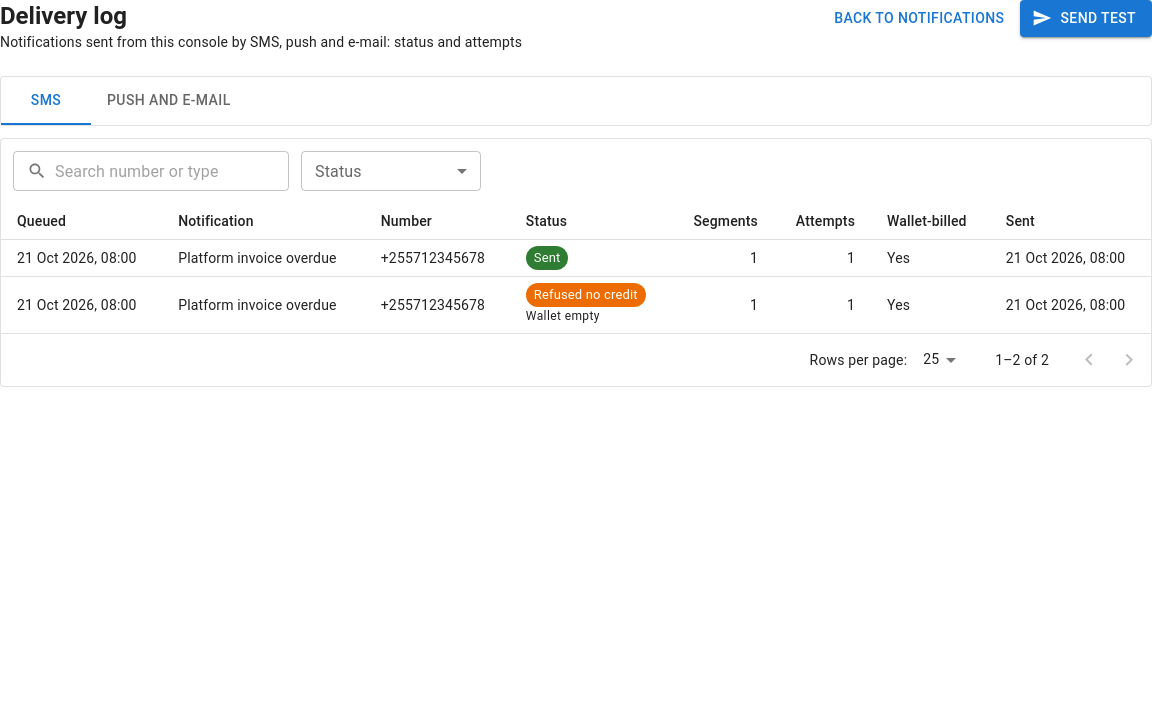
Scenario: SmsDeliveriesPage › lists deliveries with a server status filter and sends a platform test
Expected: the text "Wallet empty" is shown, left=526, top=309, right=600, bottom=323
Step 1. Click the dropdown named "Status" → x=391, y=171, box left=301, top=151, right=481, bottom=191
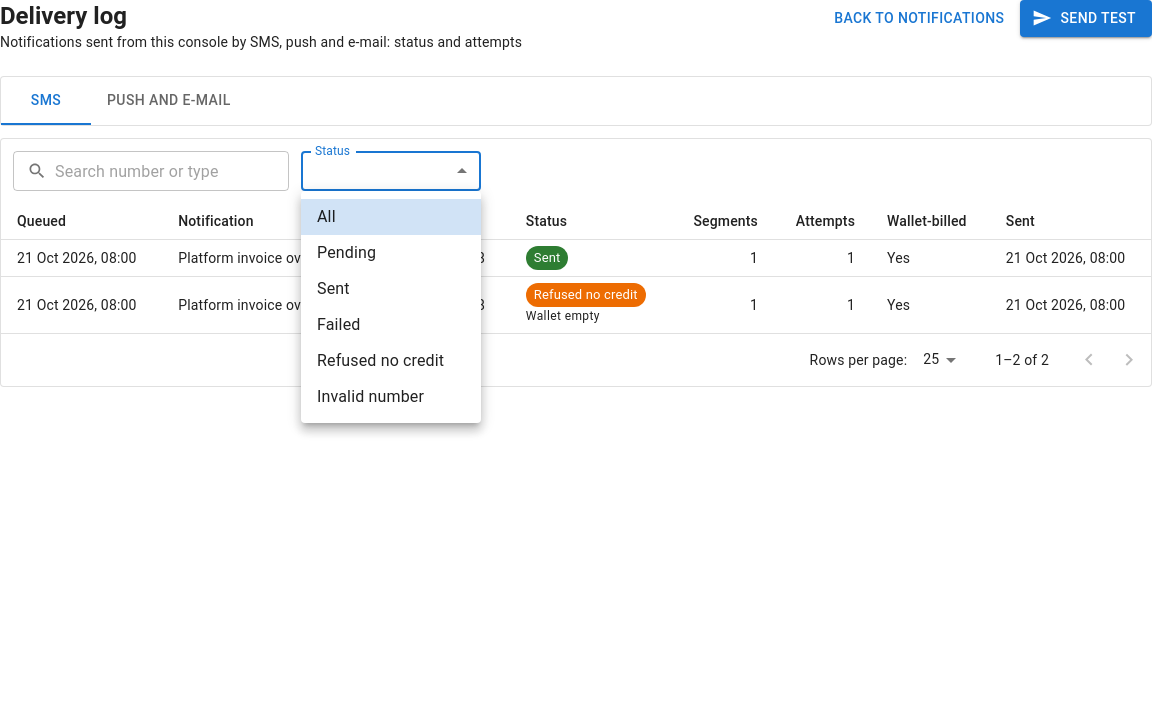
Step 2. Click the option "Refused no credit" → x=381, y=360, box left=317, top=351, right=444, bottom=370
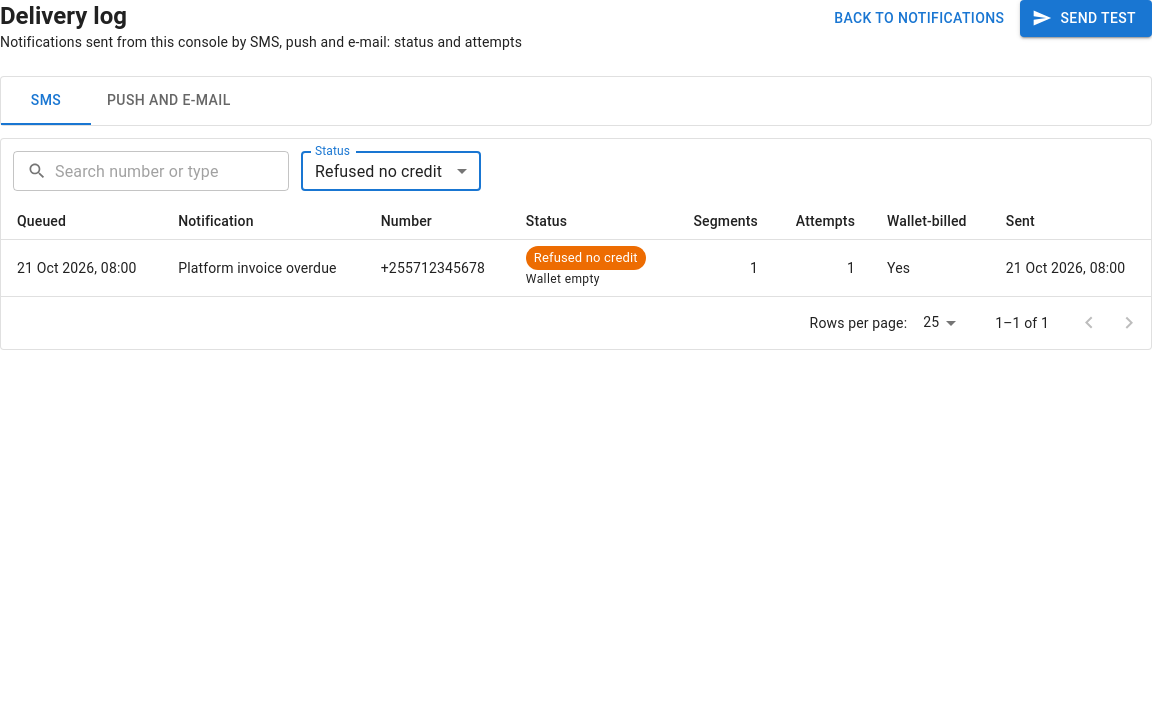
Step 3. Click the button "Send test" → x=1086, y=18, box left=1020, top=0, right=1151, bottom=36
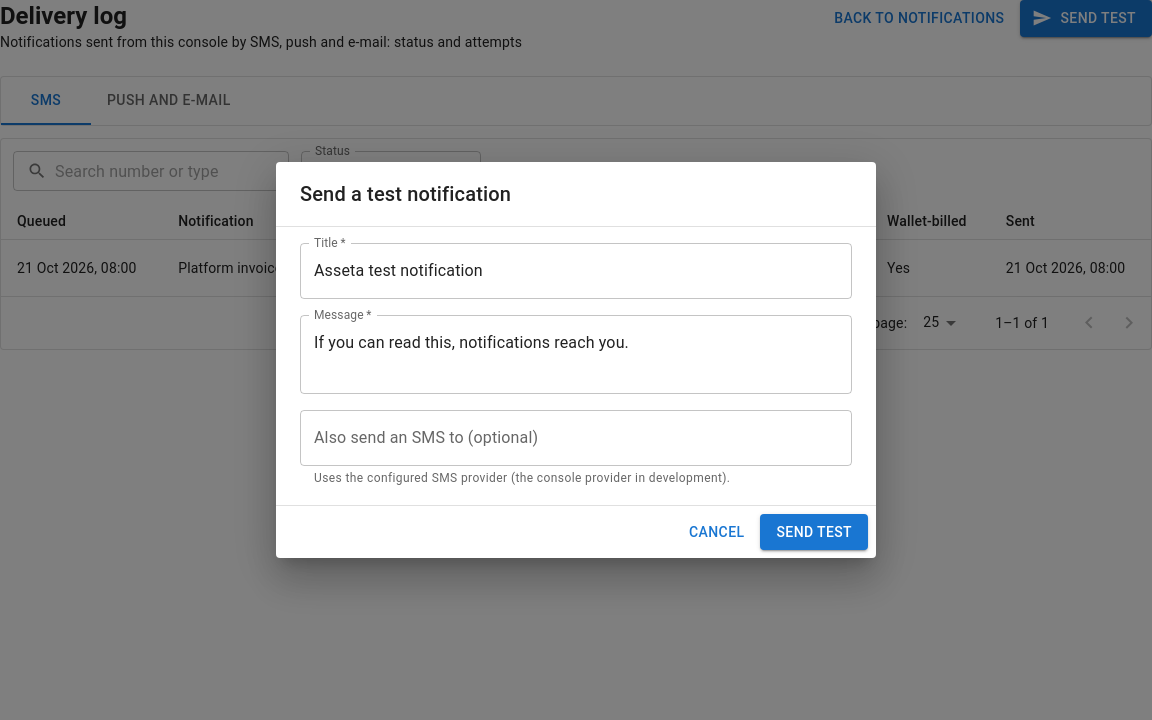
Step 4. Type "+255700000001" into the field labelled "Also send an SMS to (optional)" → x=576, y=438, box left=300, top=410, right=852, bottom=466
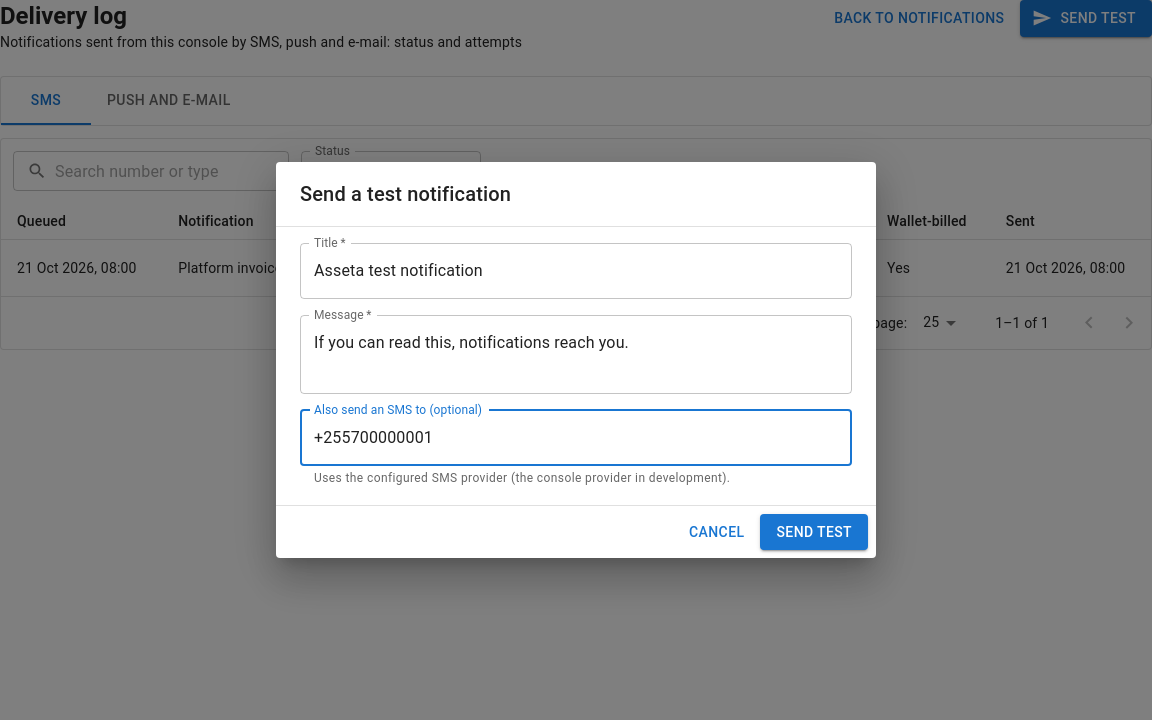
Step 5. Click the button "Send test" → x=814, y=532, box left=760, top=514, right=868, bottom=550
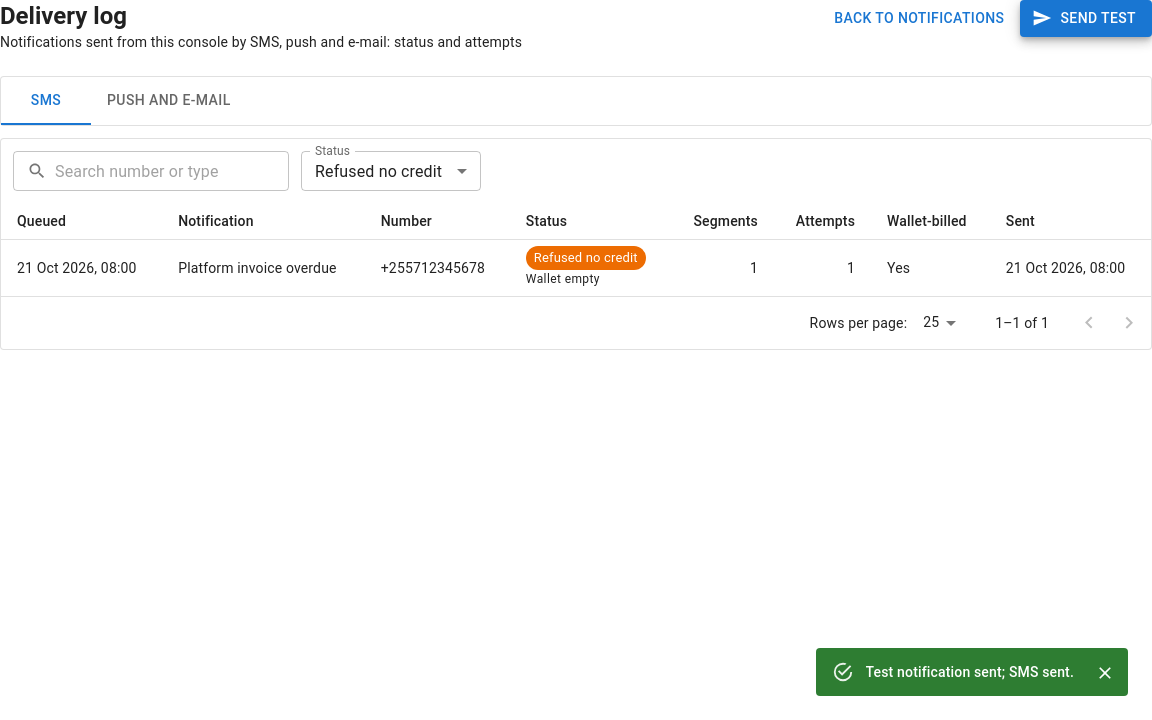
Result: the text "Test notification sent; SMS sent." is shown at left=866, top=664, right=1074, bottom=680
